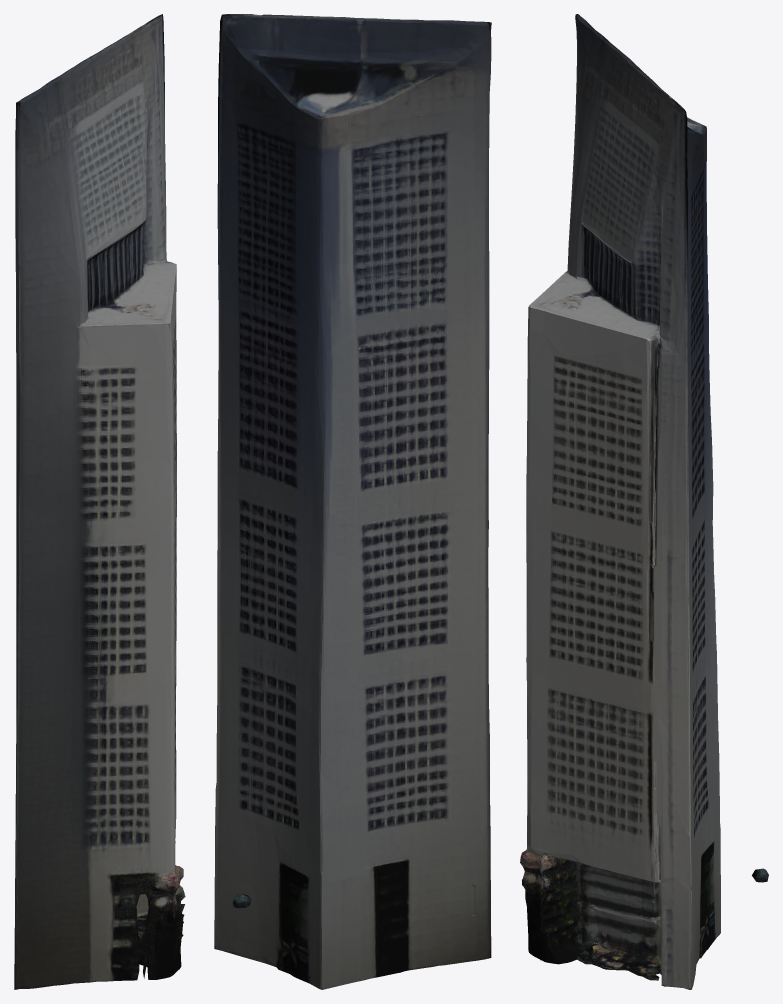
The model's file is sg_ouc_high01.glb.
3 renders of one model, left to right at view 1: azimuth 30°, elevation 25°; view 2: azimuth 150°, elevation 25°; view 3: azimuth 270°, elevation 25°, orthographic. The views are drawn at different scales.
Parts seen in each view (by area): view 1: world; view 2: world; view 3: world.
Boxes of the visible parts, x1,y1,x2,y2 form: world: (14,14,185,989); world: (214,14,491,989); world: (520,14,768,989).
Bounding box in the file's own units: 0.2437 × 1 × 0.2575.
1 material, 1 textured.
